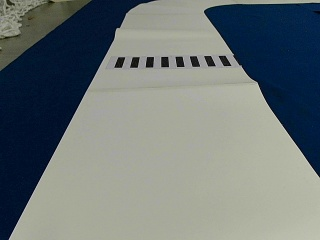crosswalk: (111, 54, 230, 69)
